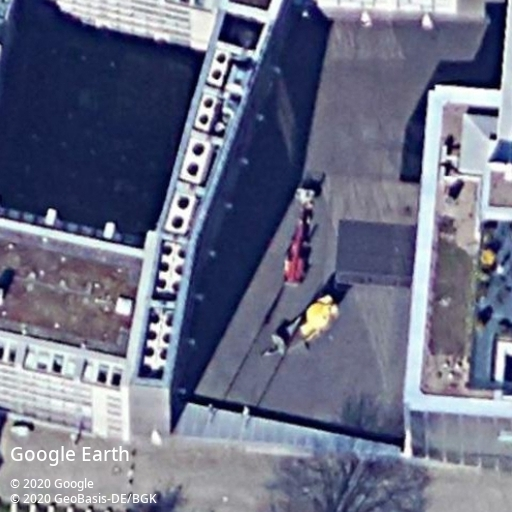Chiller: (137, 309, 175, 377), (154, 241, 188, 296), (178, 137, 212, 184), (162, 191, 197, 235), (193, 93, 218, 132), (207, 49, 231, 86)
